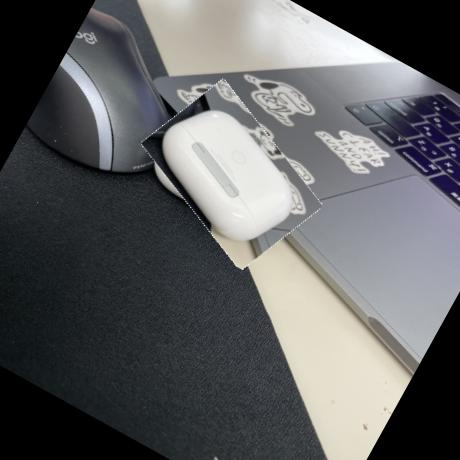airpod3: (123, 74, 340, 274)
